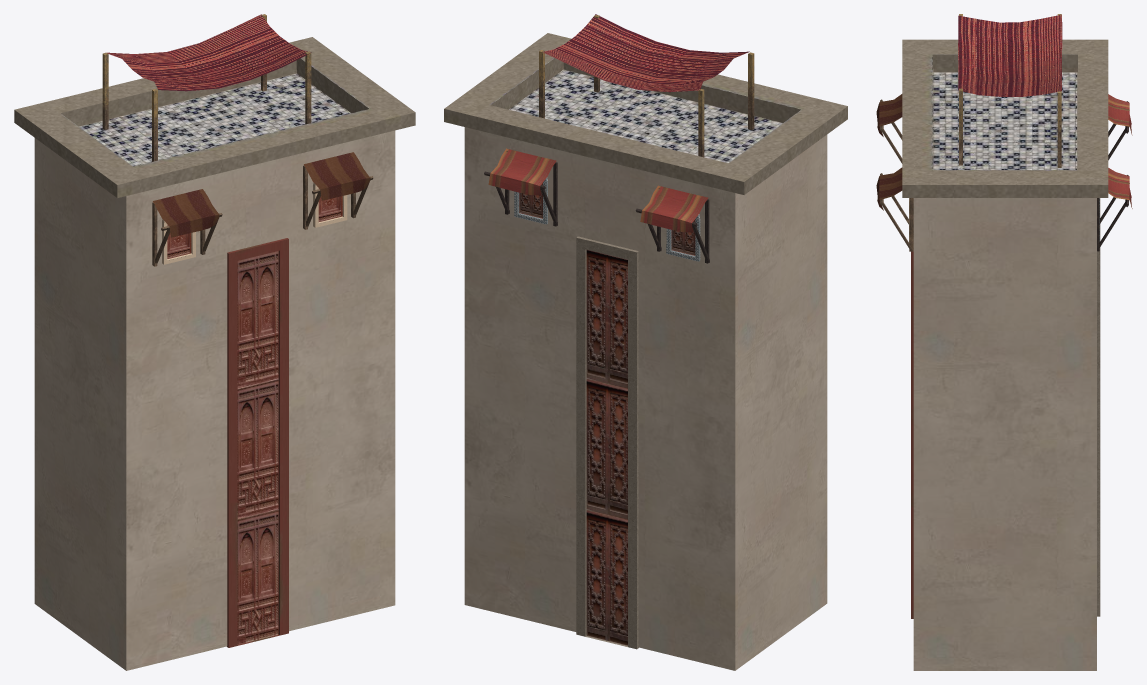
File: medina_cityscape_daar_5.gltf
3 renders of one model, left to right at view 1: azimuth 30°, elevation 25°; view 2: azimuth 150°, elevation 25°; view 3: azimuth 270°, elevation 25°, orthographic.
Parts seen in each view (by area): view 1: medina_cityscape_daar_5; view 2: medina_cityscape_daar_5; view 3: medina_cityscape_daar_5.
Boxes of the visible parts, bbox=[...] form: medina_cityscape_daar_5: bbox=[14, 14, 415, 670]; medina_cityscape_daar_5: bbox=[444, 14, 847, 670]; medina_cityscape_daar_5: bbox=[876, 14, 1132, 670].
Size of the model in its own units: 5.29 by 9.37 by 3.94.
8 materials, 8 textured.
